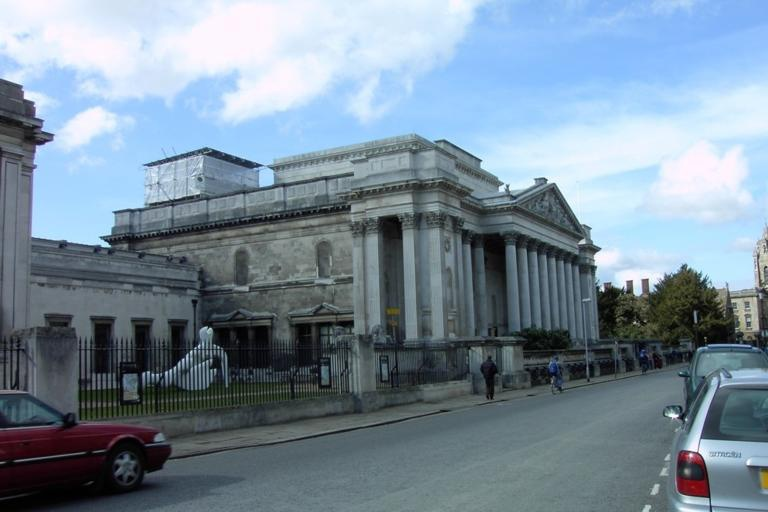non-vehicle: (548, 366, 564, 395), (639, 364, 646, 374)
